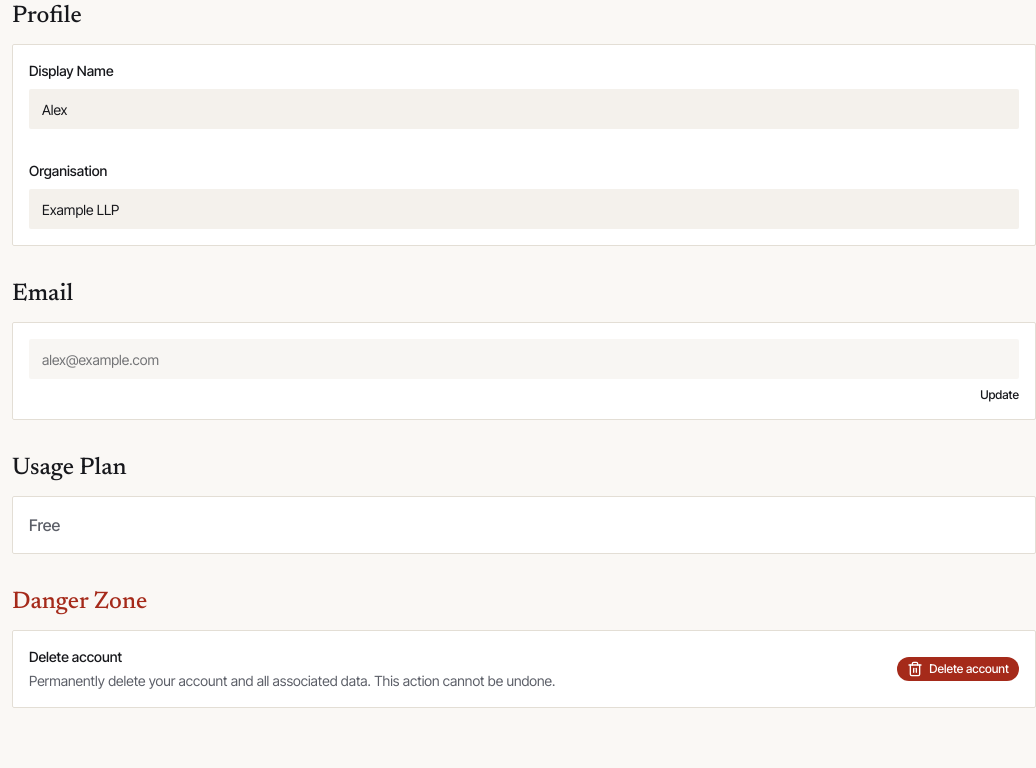
Scenario: SettingsPage Google email changes › keeps in-progress organisation text when the name autosave lands
Replace the text in the field with placeholder "Enter your name" below "Display Name" with "Alexandra": (524, 109) x1=29 y1=89 x2=1019 y2=129
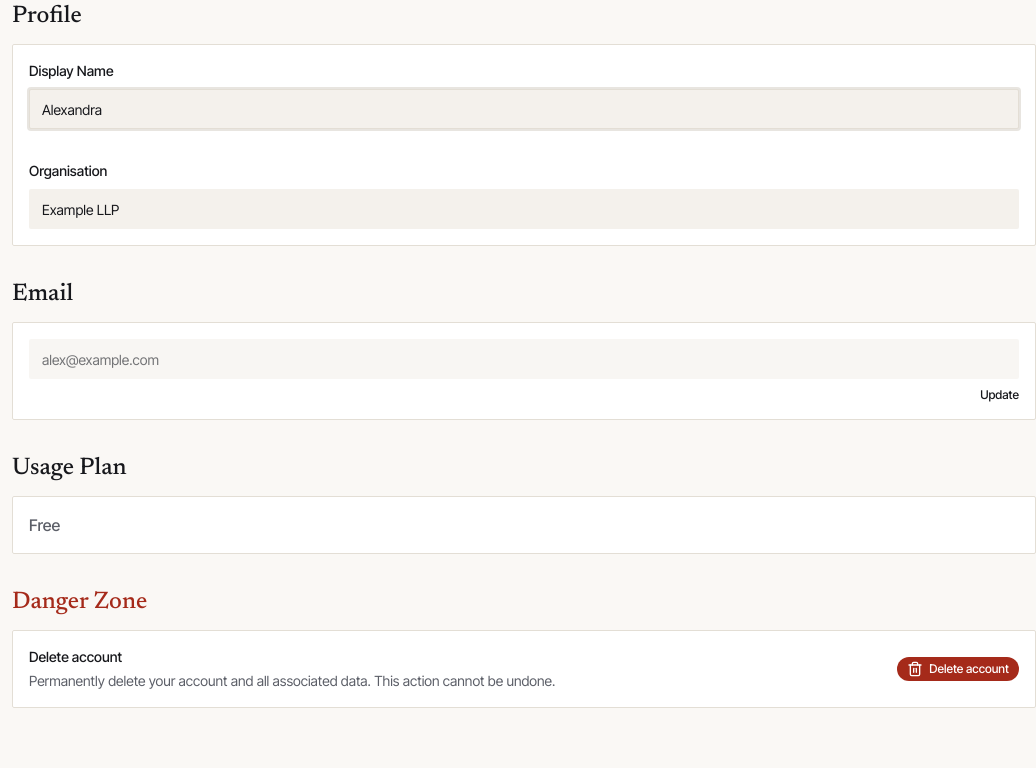
In the field with placeholder "Enter your organisation" below "Organisation": (524, 209) x1=29 y1=189 x2=1019 y2=229, type " & Partners"
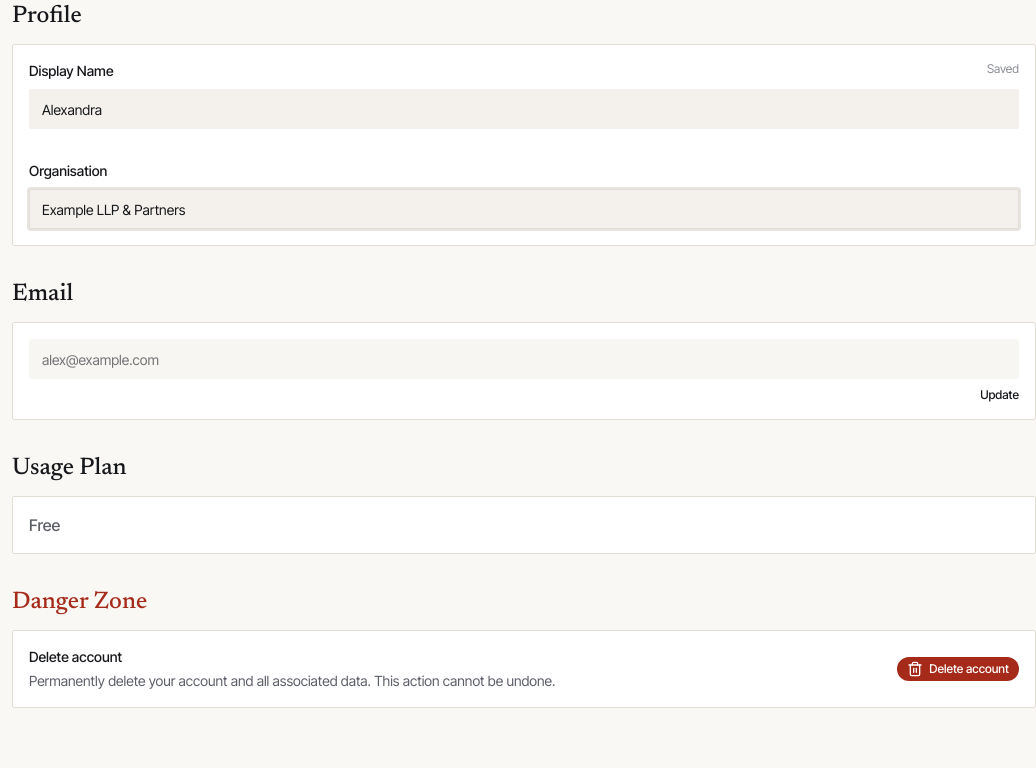
Expected: the text "Saved" is shown, x1=987 y1=61 x2=1019 y2=77
Expected: the field with placeholder "Enter your organisation" below "Organisation" holds "Example LLP & Partners", x1=29 y1=189 x2=1019 y2=229
